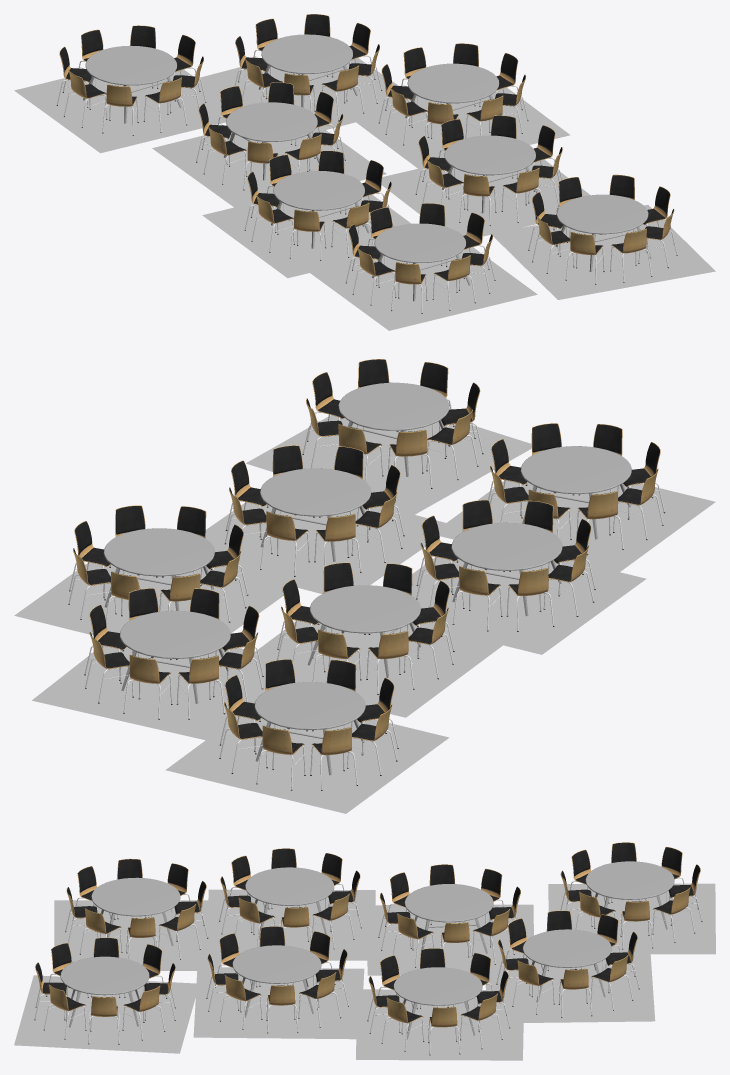
Rendered from Mh3 -del me.fbx.
3 views of the same model, one above another, from view 1: azimuth 30°, elevation 25°; view 2: azimuth 150°, elevation 25°; view 3: azimuth 270°, elevation 25° (orthographic). The views are drawn at different scales.
Parts seen in each view (by area): view 1: Sett11_Chair02_001_3.001, Sett9_Chair02_001_3.001, Sett13_Chair02_001_3.001, Sett16_Chair02_001_3.001, Sett10_Chair02_001_3.001, Sett12_Chair02_001_3.001, Sett15_Chair02_001_3.001, Sett14_Chair02_001_3.001; view 2: Sett13_Chair02_001_3.001, Sett14_Chair02_001_3.001, Sett16_Chair02_001_3.001, Sett10_Chair02_001_3.001, Sett15_Chair02_001_3.001, Sett11_Chair02_001_3.001, Sett9_Chair02_001_3.001, Sett12_Chair02_001_3.001; view 3: Sett12_Chair02_001_3.001, Sett11_Chair02_001_3.001, Sett10_Chair02_001_3.001, Sett14_Chair02_001_3.001, Sett9_Chair02_001_3.001, Sett13_Chair02_001_3.001, Sett15_Chair02_001_3.001, Sett16_Chair02_001_3.001.
Boxes of the visible parts, x1=… form: Sett11_Chair02_001_3.001: x1=490, y1=174, x2=715, y2=299; Sett9_Chair02_001_3.001: x1=303, y1=203, x2=537, y2=330; Sett13_Chair02_001_3.001: x1=14, y1=25, x2=226, y2=153; Sett16_Chair02_001_3.001: x1=202, y1=150, x2=411, y2=278; Sett10_Chair02_001_3.001: x1=381, y1=115, x2=590, y2=236; Sett12_Chair02_001_3.001: x1=338, y1=43, x2=570, y2=170; Sett15_Chair02_001_3.001: x1=152, y1=82, x2=386, y2=210; Sett14_Chair02_001_3.001: x1=196, y1=14, x2=398, y2=142; Sett13_Chair02_001_3.001: x1=165, y1=659, x2=449, y2=813; Sett14_Chair02_001_3.001: x1=32, y1=588, x2=313, y2=742; Sett16_Chair02_001_3.001: x1=412, y1=500, x2=646, y2=654; Sett10_Chair02_001_3.001: x1=205, y1=445, x2=455, y2=593; Sett15_Chair02_001_3.001: x1=255, y1=562, x2=508, y2=717; Sett11_Chair02_001_3.001: x1=246, y1=359, x2=531, y2=515; Sett9_Chair02_001_3.001: x1=441, y1=423, x2=715, y2=577; Sett12_Chair02_001_3.001: x1=14, y1=505, x2=298, y2=659; Sett12_Chair02_001_3.001: x1=356, y1=948, x2=524, y2=1060; Sett11_Chair02_001_3.001: x1=14, y1=937, x2=199, y2=1053; Sett10_Chair02_001_3.001: x1=193, y1=926, x2=364, y2=1039; Sett14_Chair02_001_3.001: x1=483, y1=910, x2=655, y2=1022; Sett9_Chair02_001_3.001: x1=54, y1=858, x2=221, y2=970; Sett13_Chair02_001_3.001: x1=548, y1=842, x2=715, y2=954; Sett15_Chair02_001_3.001: x1=366, y1=864, x2=533, y2=975; Sett16_Chair02_001_3.001: x1=208, y1=848, x2=375, y2=960.
Bounding box in the file's own units: 777 × 96.11 × 1303.
